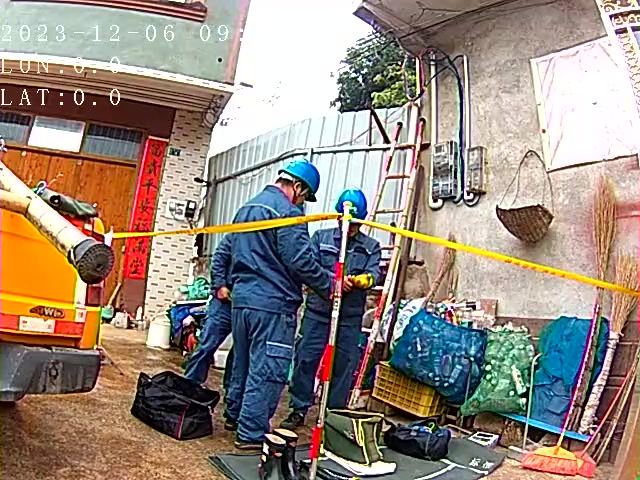downsuit: (225, 308, 306, 443), (293, 302, 368, 412), (186, 299, 228, 383)
halt: (272, 159, 322, 204), (336, 188, 370, 233)
hand: (341, 274, 354, 293), (217, 287, 229, 302)
inear: (290, 178, 309, 200)
longglove: (351, 272, 374, 291)
person: (201, 154, 332, 446), (299, 182, 385, 420)
upsuit: (216, 191, 339, 303), (208, 229, 239, 290)
